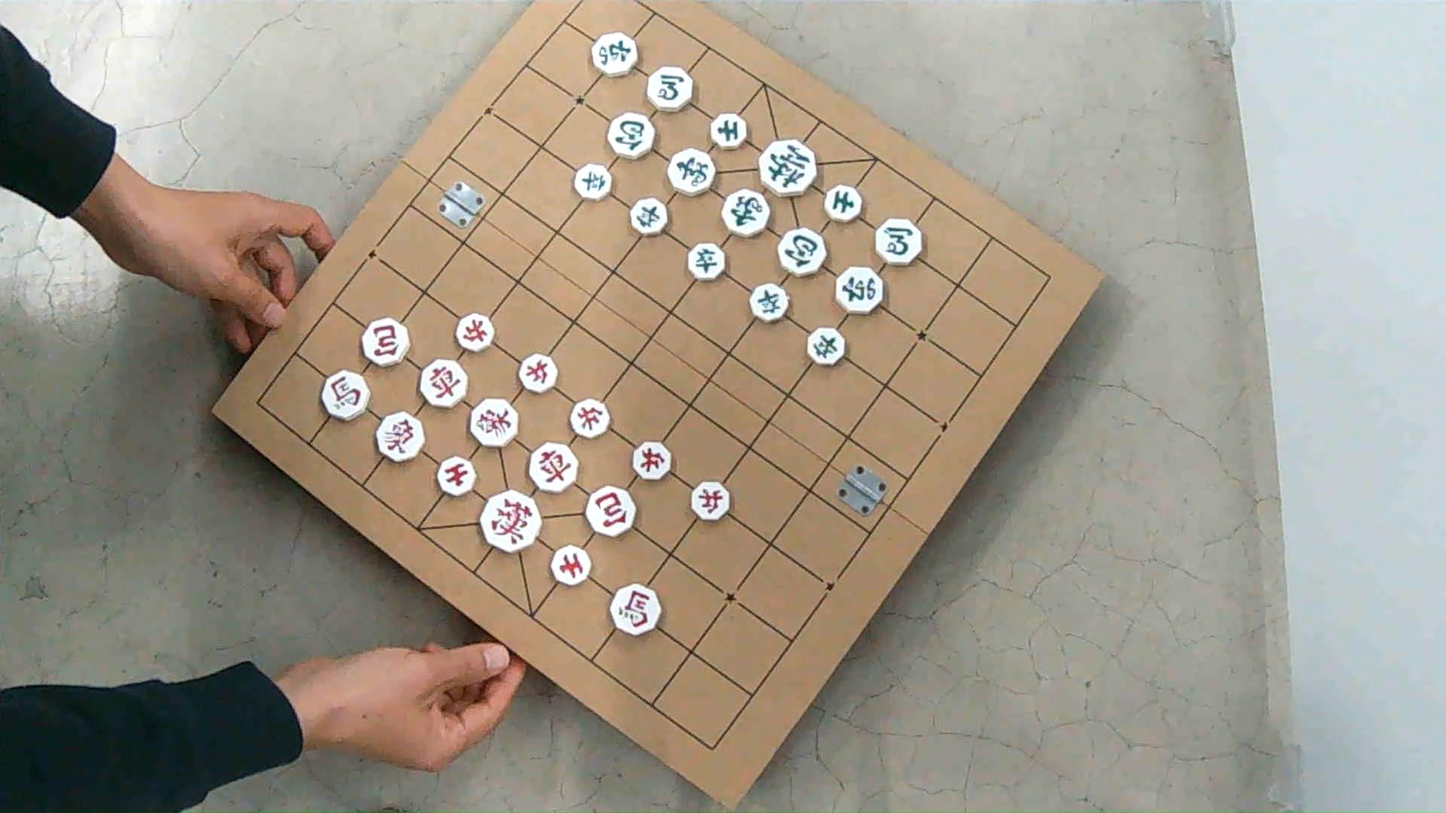cha_green: (836, 266, 886, 314), (592, 32, 638, 76)
cha_red: (529, 443, 578, 493), (420, 359, 467, 408)
jol_green: (750, 283, 789, 321), (807, 327, 846, 365), (687, 243, 726, 280), (630, 198, 668, 234), (574, 164, 612, 199)
jol_red: (569, 399, 610, 438), (690, 481, 731, 520), (455, 312, 494, 352), (518, 354, 558, 393), (631, 442, 671, 480)
ma_green: (875, 218, 923, 265), (646, 66, 693, 111)
ma_red: (610, 584, 660, 635), (321, 370, 368, 420)
po_green: (778, 227, 825, 276), (608, 112, 654, 158)
po_red: (586, 486, 636, 536), (362, 318, 409, 366)
sa_green: (824, 185, 862, 221), (710, 112, 746, 148)
sa_red: (551, 545, 590, 585), (437, 456, 474, 496)
sang_green: (722, 189, 770, 236), (668, 149, 715, 195)
sang_red: (375, 412, 423, 461), (469, 398, 517, 446)
wang_green: (758, 139, 816, 196)
wang_red: (480, 490, 541, 553)
